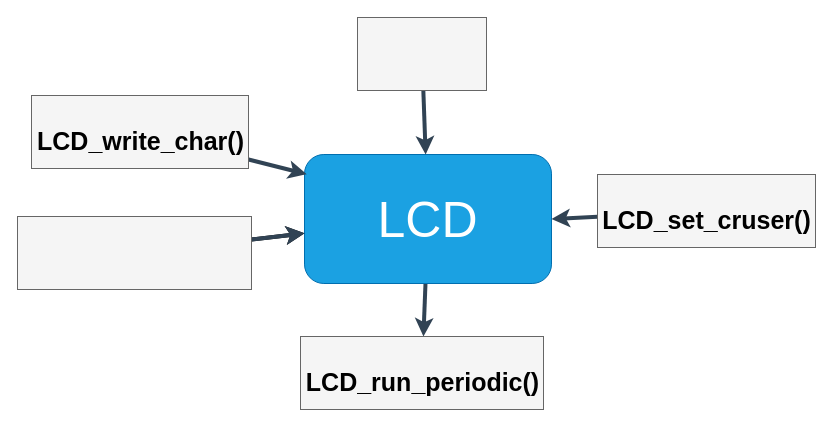
Image size: 833x427. Some labels were removed from this diagram. Each missing label, with the box of its shape:
LCD_init (): (356, 16, 486, 90)
LCD_write_string(): (16, 216, 252, 290)
